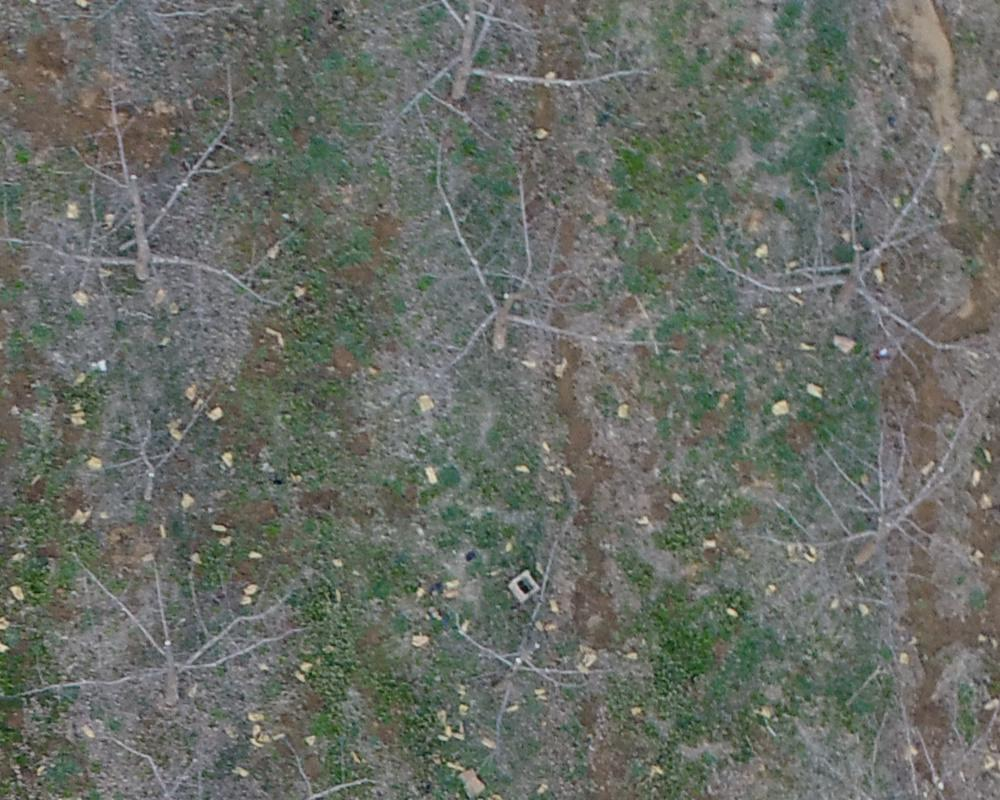apple: (10, 53, 295, 321), (685, 142, 990, 384), (10, 536, 331, 741), (369, 176, 656, 399), (758, 397, 990, 604), (416, 558, 652, 739), (381, 10, 654, 157), (48, 349, 270, 529)
